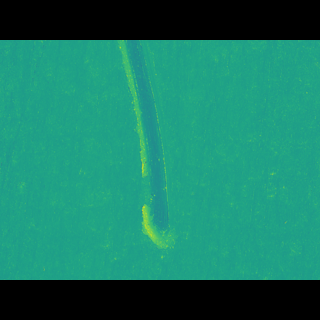Loch: (112, 69, 180, 230)
